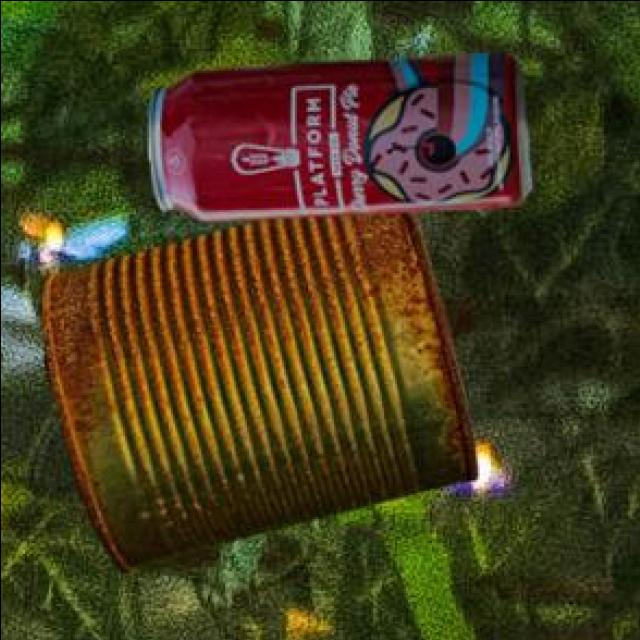logam: (42, 214, 480, 574), (151, 53, 534, 223)
